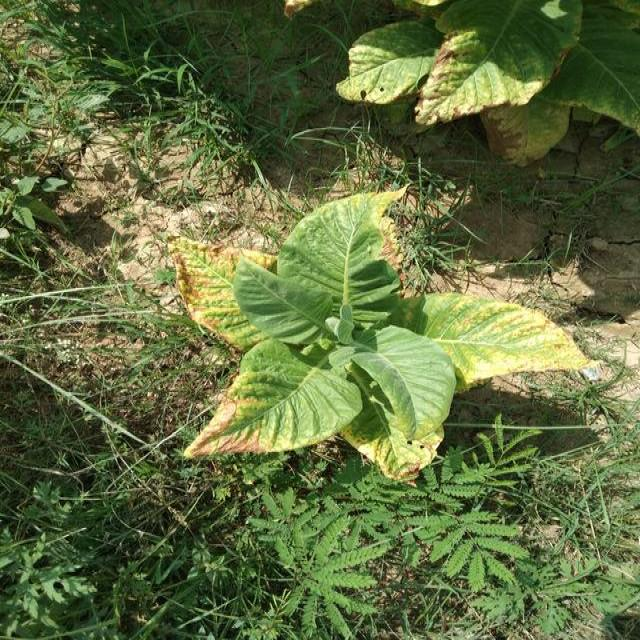crop: (179, 186, 587, 482)
